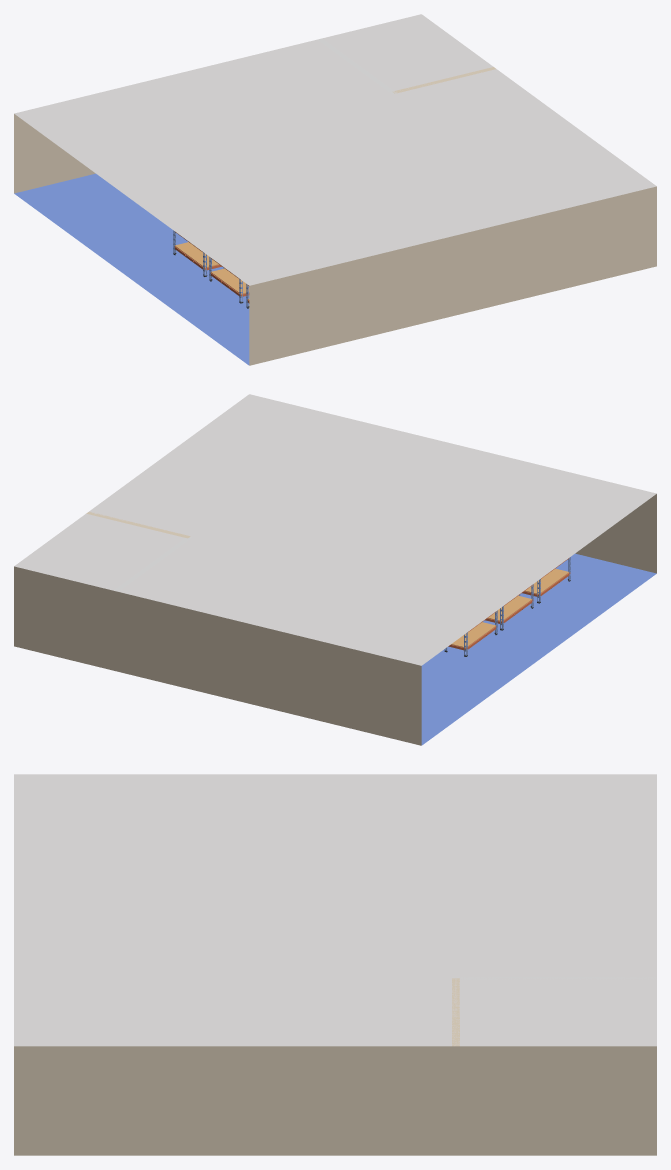
The model's file is warehouse.glb.
The picture shows the model from 3 angles, top to bottom: view 1: azimuth 30°, elevation 25°; view 2: azimuth 150°, elevation 25°; view 3: azimuth 270°, elevation 25°; orthographic projection. The views are drawn at different scales.
Visible parts, largest first — view 1: Floor.001, Plane.002, Floor, Plane.003, Shelf_Cube.004, Shelf_Cube.001; view 2: Floor.001, Plane.003, Floor, Plane.002, Shelf_Cube.004, Shelf_Cube.002, Shelf_Cube.001; view 3: Floor.001, Plane.001, Cube, Cube.001.
Boxes of the visible parts, <box> form: Floor.001: <box>14,14,656,285</box>; Plane.002: <box>249,186,656,365</box>; Floor: <box>14,173,249,365</box>; Plane.003: <box>14,114,95,193</box>; Shelf_Cube.004: <box>173,230,224,276</box>; Shelf_Cube.001: <box>209,257,249,303</box>; Floor.001: <box>14,394,656,665</box>; Plane.003: <box>14,566,421,745</box>; Floor: <box>421,553,656,745</box>; Plane.002: <box>575,494,656,573</box>; Shelf_Cube.004: <box>444,610,497,656</box>; Shelf_Cube.002: <box>519,557,570,603</box>; Shelf_Cube.001: <box>483,584,533,630</box>; Floor.001: <box>14,774,656,1046</box>; Plane.001: <box>14,1046,656,1155</box>; Cube: <box>452,978,459,1155</box>; Cube.001: <box>452,976,655,979</box>.
Size of the model in its own units: 16 by 3.01 by 16.
